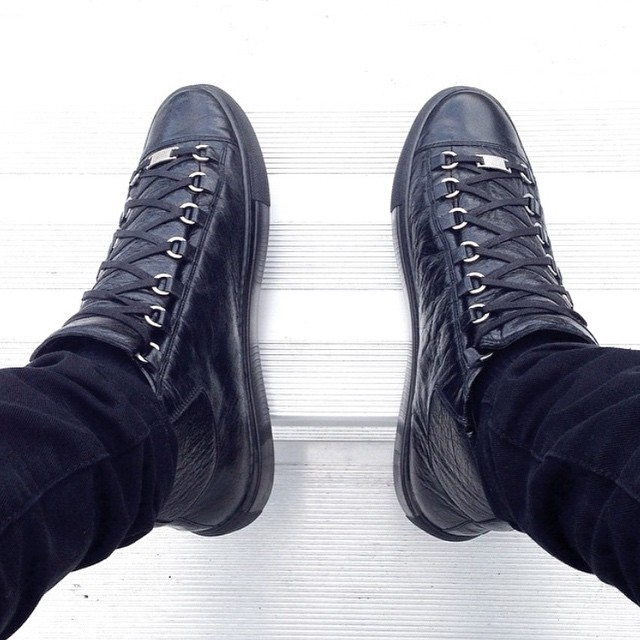sneaker: (15, 70, 305, 563), (351, 69, 615, 565)
